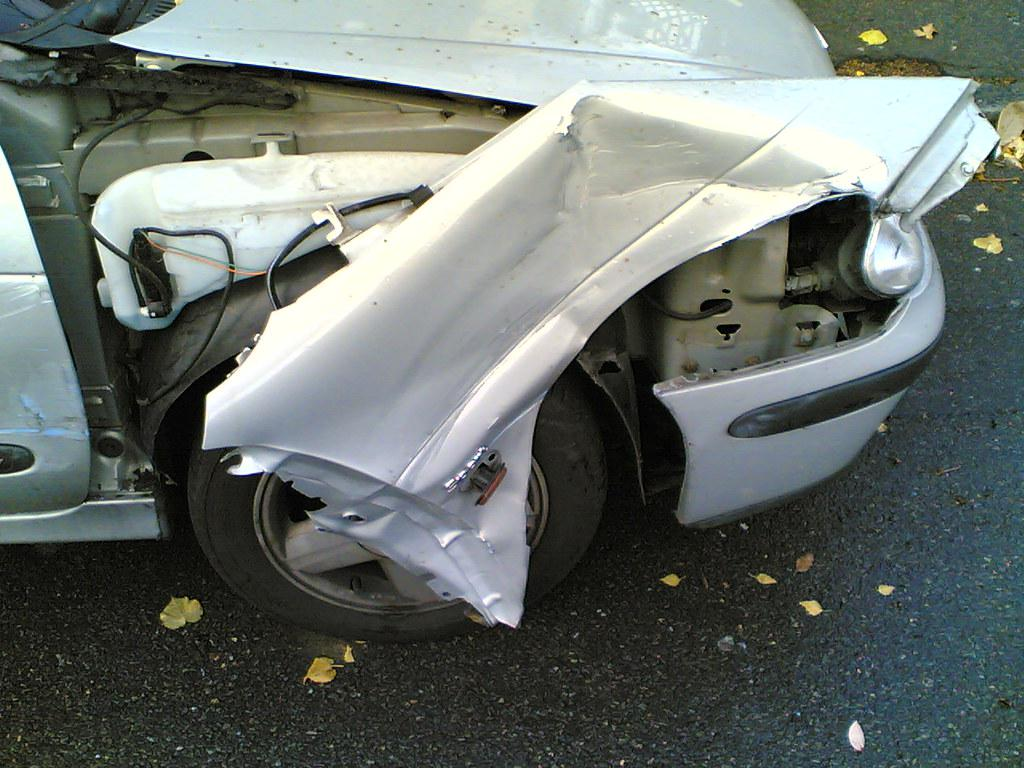fender-dent: (69, 76, 886, 396)
